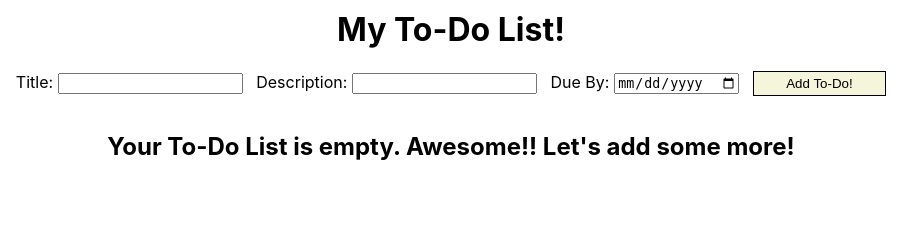
Test: App › should show an error message with missing form info
Type "Grocery List" into the field with id "title". click: (151, 84)
box: [58,73,243,94]
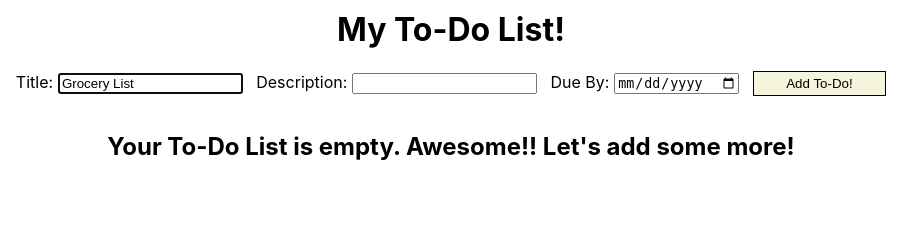
Type "Order groceries from grocery list today" into the field with id "description". click: (445, 84)
box: [352,73,537,94]
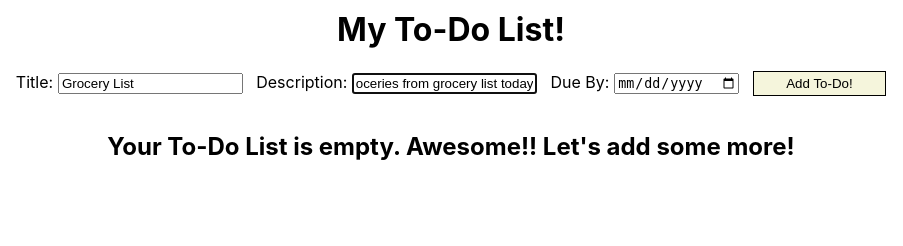
Click the button with class "new-todo__submit". click: (820, 84)
box: [753,71,886,96]
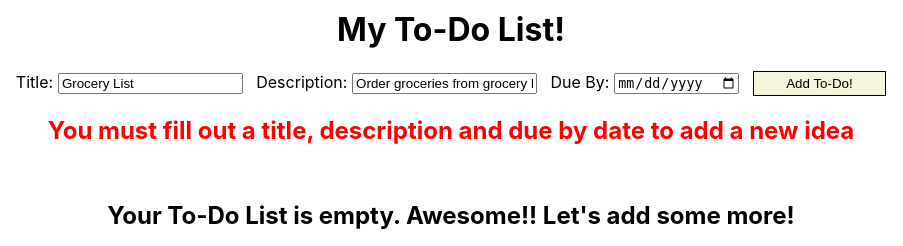
expect the heading "You must fill out a title, description and due by date to add a new idea" is shown: met, box [48,116,854,145]
